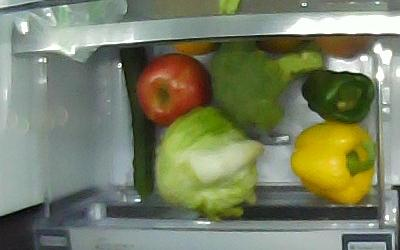apple: (136, 53, 212, 127)
broccoli: (212, 41, 325, 134)
cucumber: (119, 47, 155, 204)
lettuce: (156, 105, 264, 216)
paprika: (291, 122, 377, 207), (302, 69, 375, 124)
